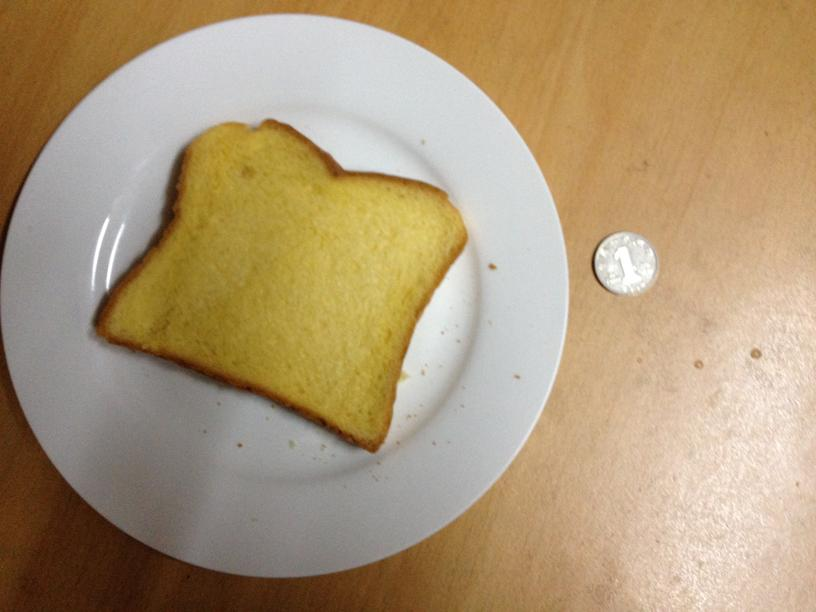bread: (96, 113, 470, 454)
coin: (590, 226, 660, 298)
